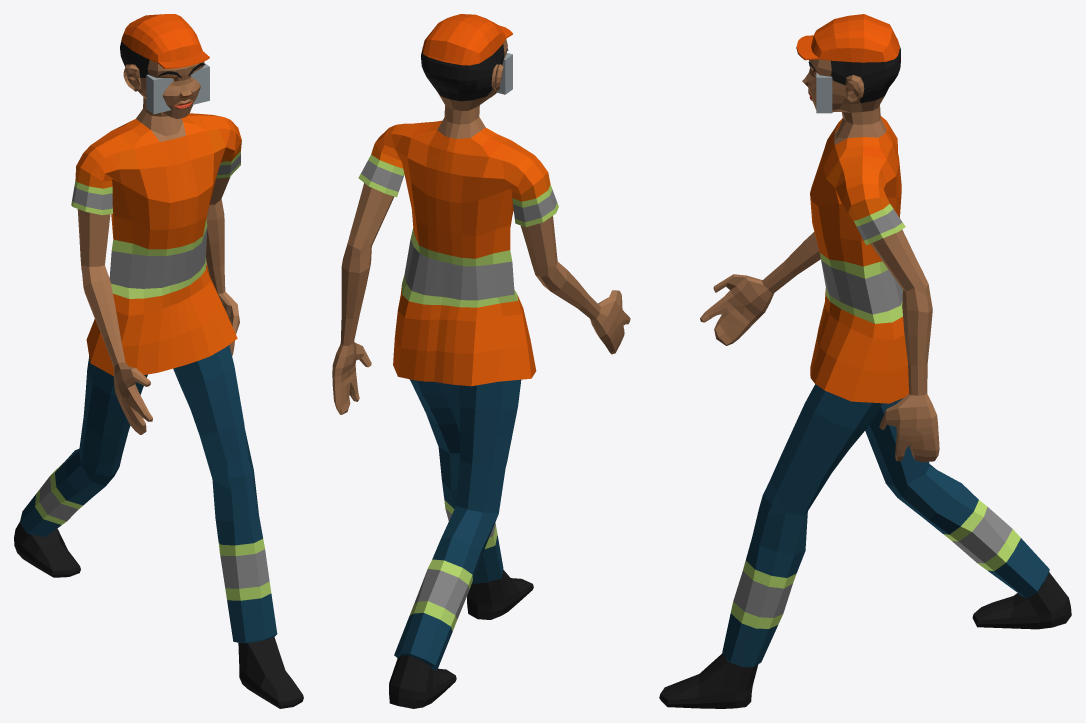
Rendered from Garbageman_Walk_Mask.fbx.
3 views of the same model, side by side, from view 1: azimuth 30°, elevation 25°; view 2: azimuth 150°, elevation 25°; view 3: azimuth 270°, elevation 25° (orthographic). The views are drawn at different scales.
Parts seen in each view (by area): view 1: Garbageman_Walk_Mask; view 2: Garbageman_Walk_Mask; view 3: Garbageman_Walk_Mask.
Part boxes in pixels (x1,y1,x2,y2): Garbageman_Walk_Mask: [14, 14, 303, 708]; Garbageman_Walk_Mask: [332, 14, 630, 708]; Garbageman_Walk_Mask: [659, 14, 1071, 708].
Bounding box in the file's own units: 0.3234 × 1.02 × 0.5758.
